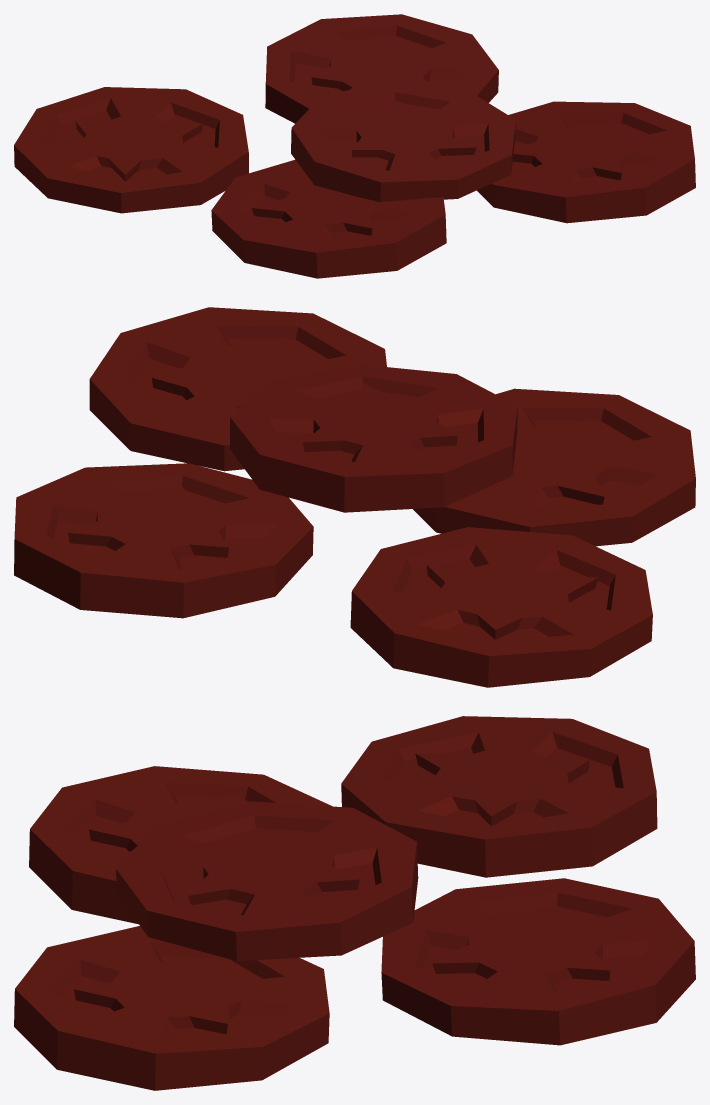
File: Tomato_Slice.obj
The picture shows the model from 3 angles, top to bottom: view 1: azimuth 30°, elevation 25°; view 2: azimuth 150°, elevation 25°; view 3: azimuth 270°, elevation 25°; orthographic projection. The views are drawn at different scales.
Visible parts, largest first — view 1: Tomato_Slice_Cylinder.025; view 2: Tomato_Slice_Cylinder.025; view 3: Tomato_Slice_Cylinder.025.
Part boxes in pixels (x1,y1,x2,y2): Tomato_Slice_Cylinder.025: (14,14,695,278); Tomato_Slice_Cylinder.025: (14,307,695,687); Tomato_Slice_Cylinder.025: (14,716,695,1090).
Size of the model in its own units: 0.8057 by 0.0765 by 0.6686.
